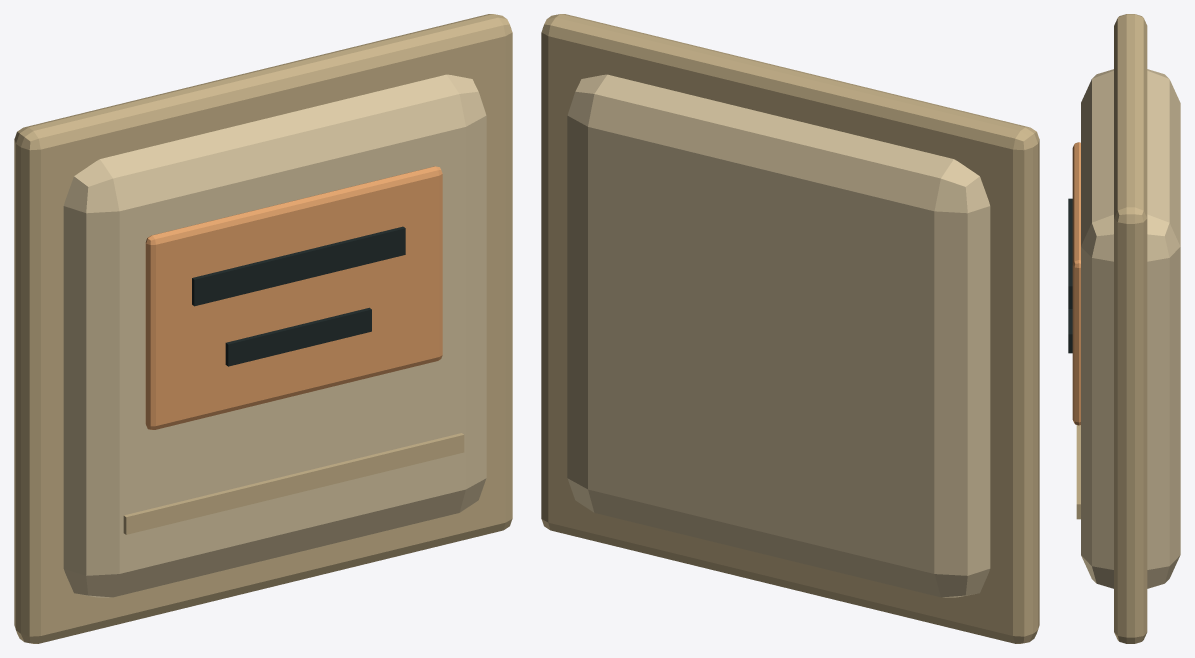
Rendered from ration_pack_orange.glb.
The picture shows the model from 3 angles, left to right: view 1: azimuth 30°, elevation 25°; view 2: azimuth 150°, elevation 25°; view 3: azimuth 270°, elevation 25°; orthographic projection. The views are drawn at different scales.
Parts seen in each view (by area): view 1: ration_pack_orange; view 2: ration_pack_orange; view 3: ration_pack_orange.
Part boxes in pixels (<box>): ration_pack_orange: <box>14,14,512,643</box>; ration_pack_orange: <box>541,14,1039,643</box>; ration_pack_orange: <box>1068,14,1180,643</box>.
Size of the model in its own units: 0.116 by 0.116 by 0.027.
